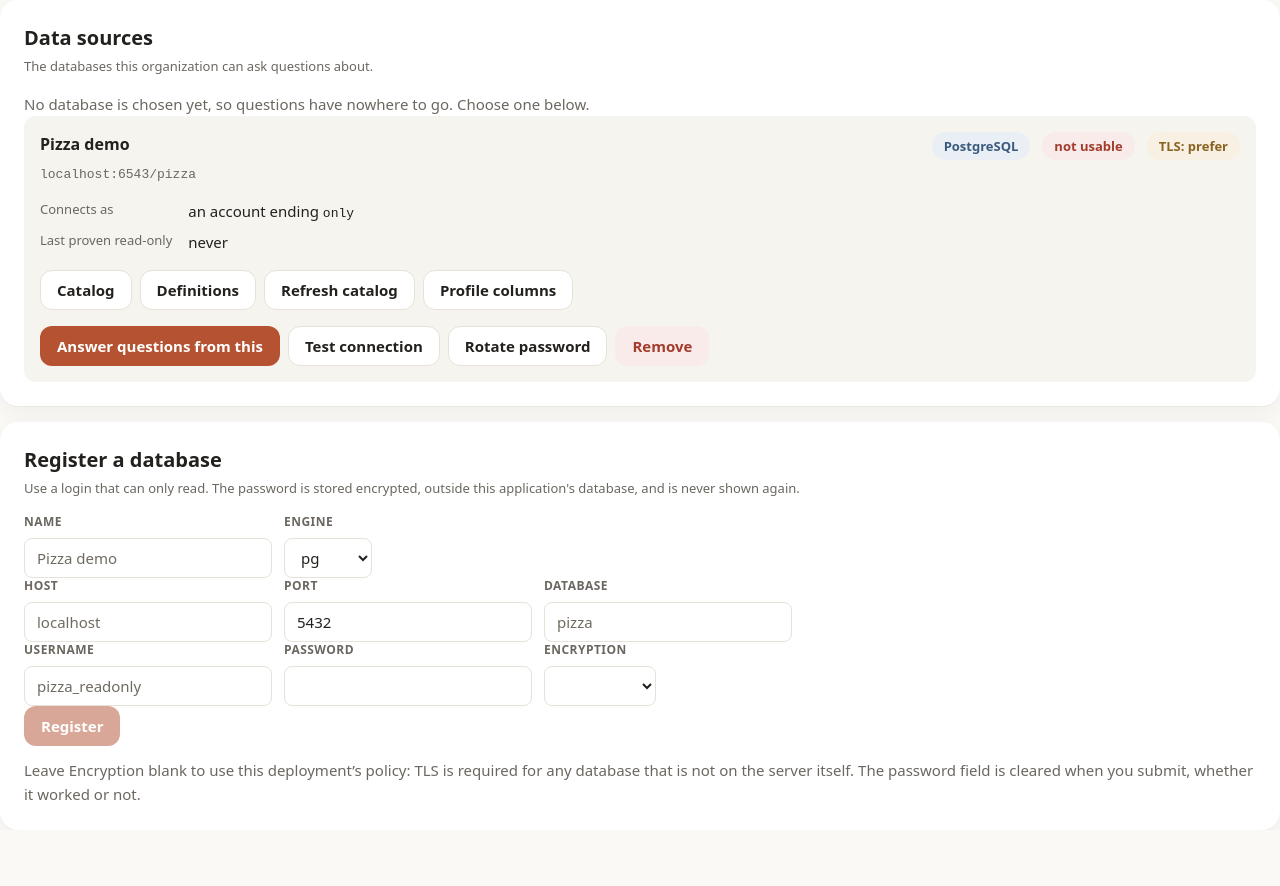
Test case: <DataSources /> › renders a failed test as an outcome with a reason, not an alarm
This screenshot has width=1280, height=886.
What coordinates should you click on to do the following:
click the button "Test connection"
I would click on:
 (364, 346)
Its box is [288,326,440,366].
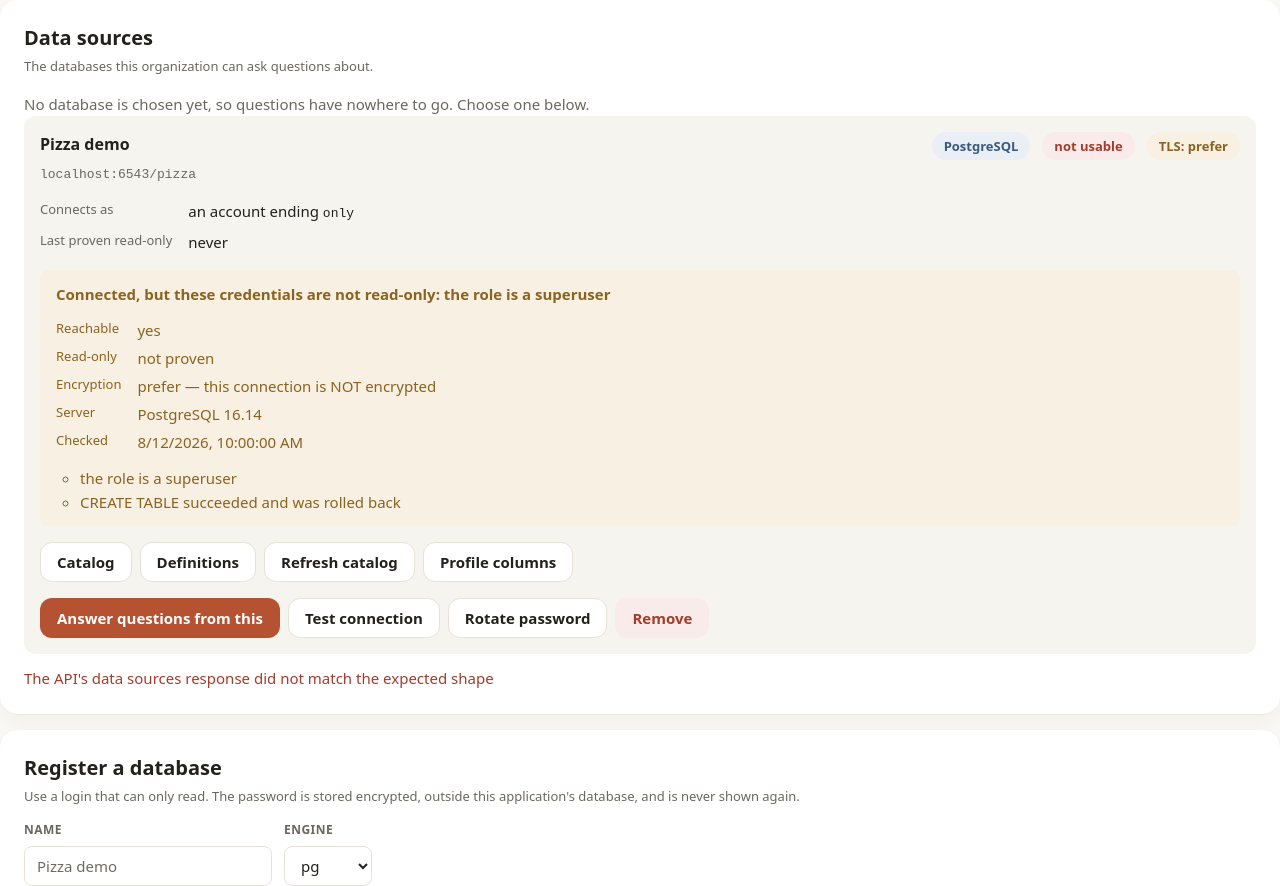
Check: the text "not read-only: the role is a superuser" is shown, box [56,284,610,304]
Check: the text "not proven" is shown, box [138,348,214,368]
Check: the text "prefer — this connection is NOT encrypted" is shown, box [138,376,436,396]
